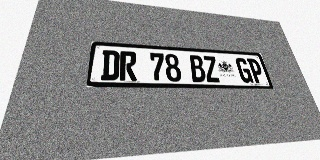7: (149, 53, 166, 81)
8: (164, 53, 182, 82)
B: (188, 55, 207, 82)
D: (100, 50, 120, 80)
G: (235, 58, 254, 83)
P: (246, 58, 266, 83)
R: (119, 51, 137, 81)
Z: (202, 56, 221, 82)
